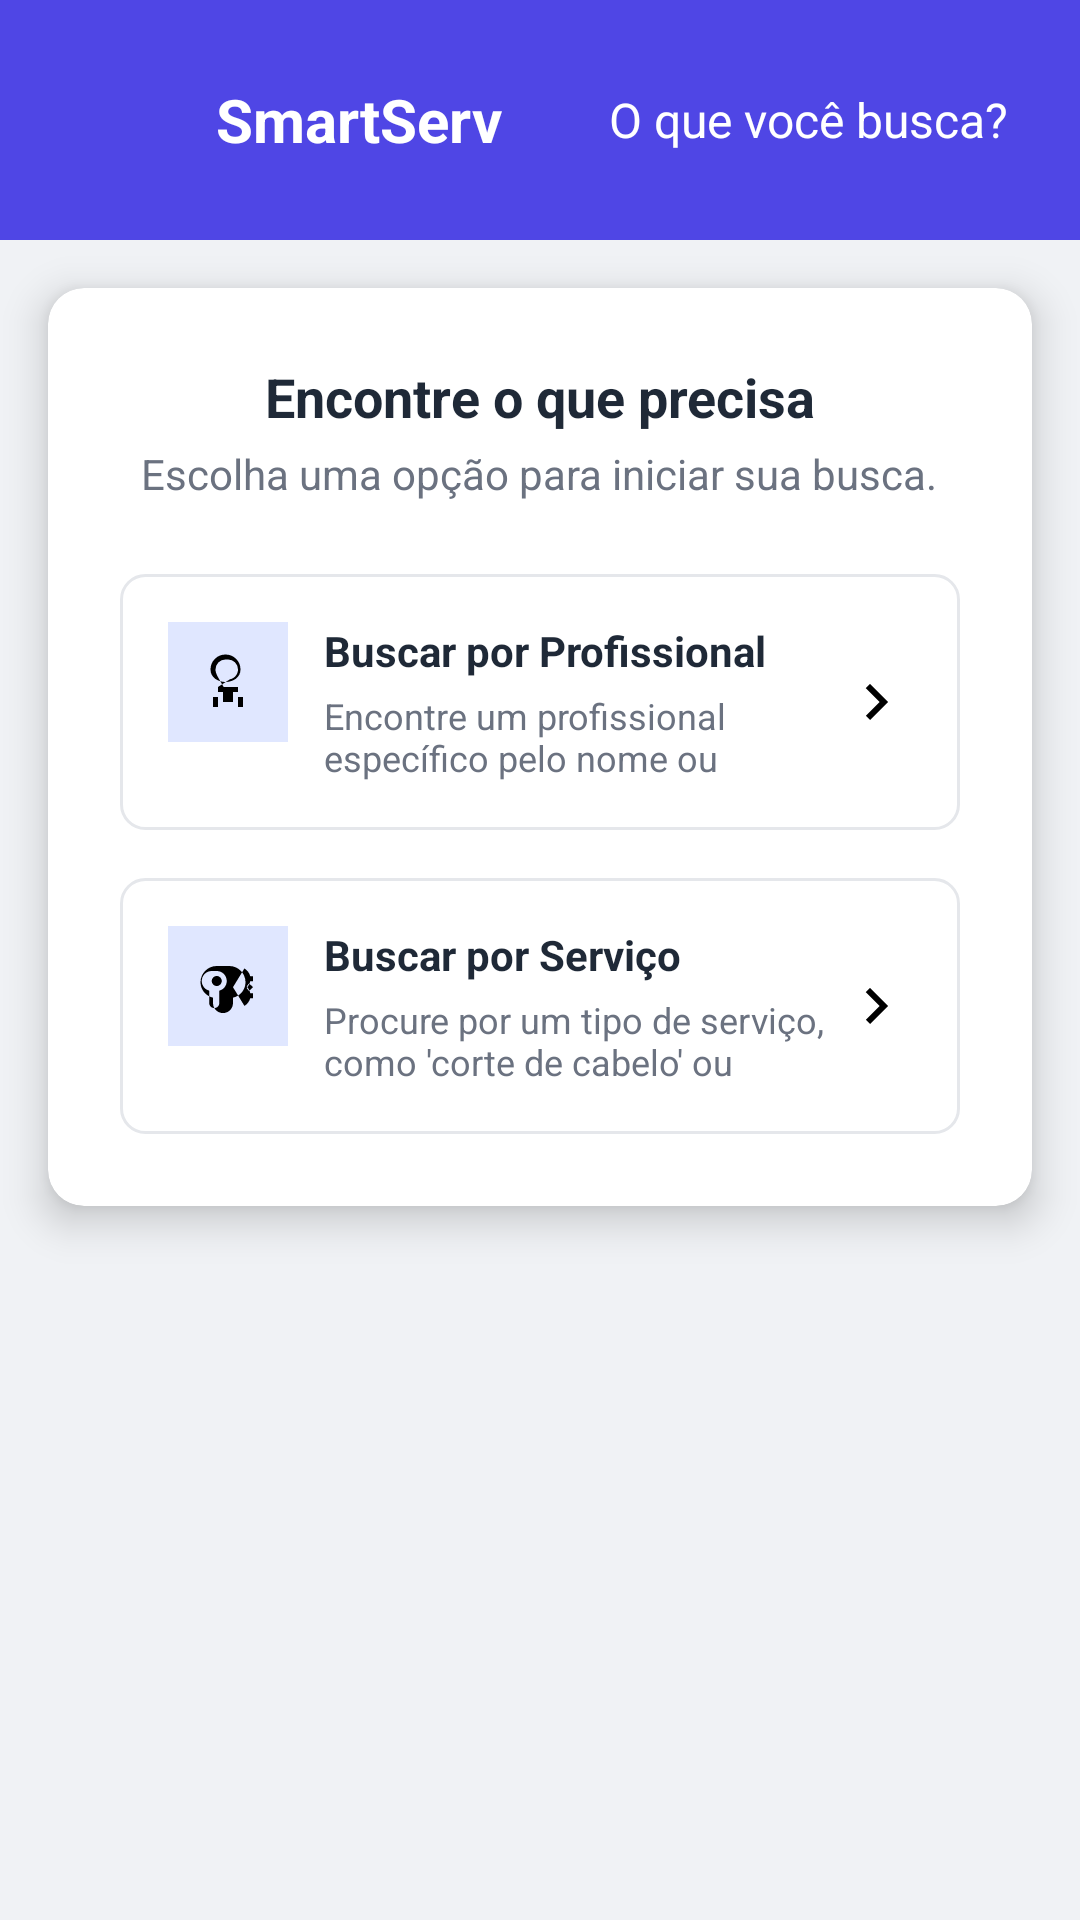

Icons on this 1080 x 1920 Android screen, each with the point to tap as point (x, y):
chevron right: point (877, 702), point (877, 1006)
user tie: point (226, 680)
